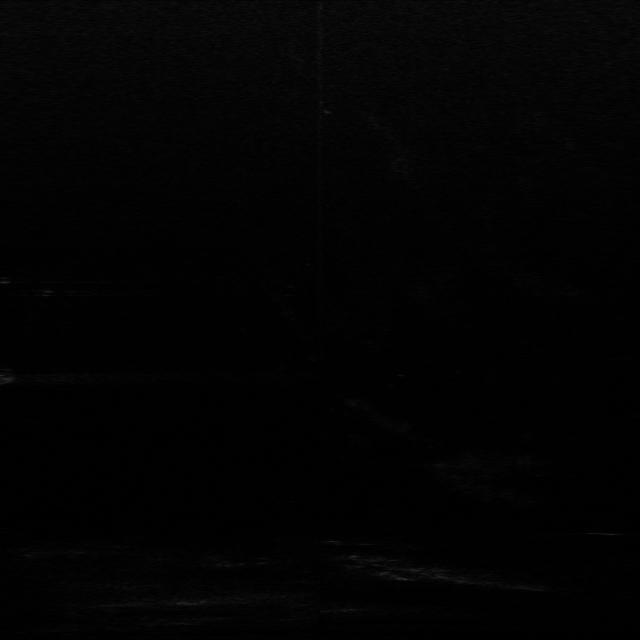rov: (0, 372, 12, 384)
